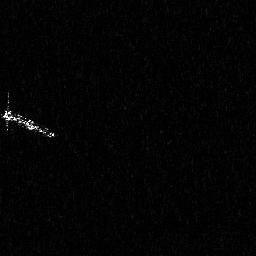ship: (1, 91, 59, 139)
